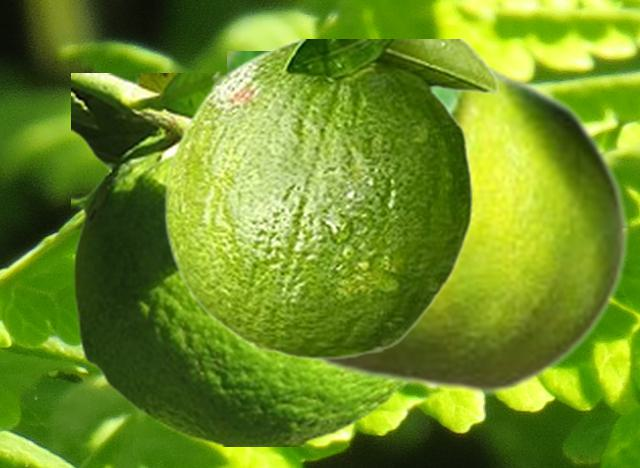dalandan: (227, 51, 629, 395), (71, 73, 408, 445), (163, 39, 499, 359)
